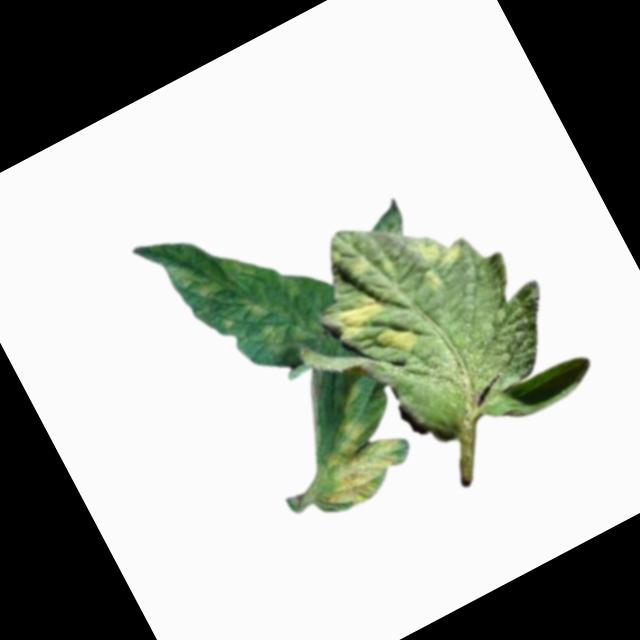Leaf_Mold: (287, 378, 416, 517), (405, 221, 474, 295), (221, 289, 287, 359), (164, 246, 228, 311), (322, 285, 388, 342), (372, 311, 426, 365)
